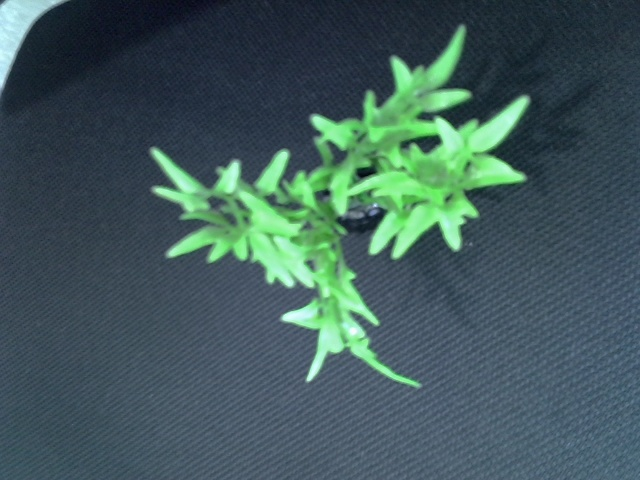튤립새싹: (145, 46, 516, 387)
